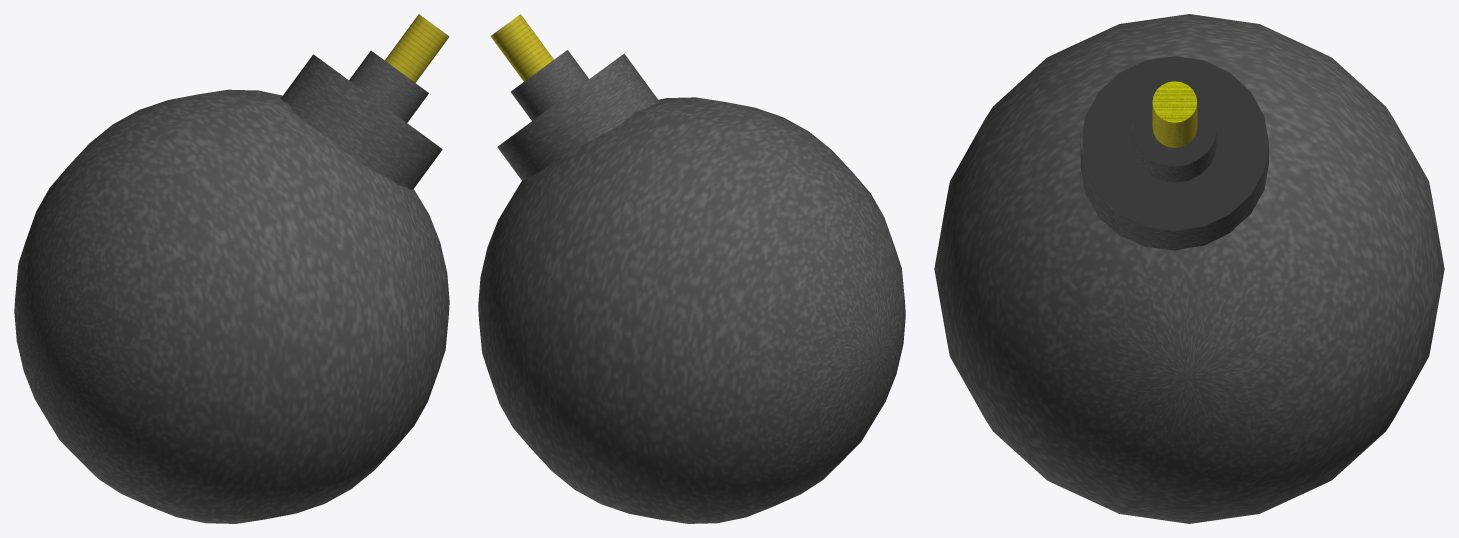
Rendered from bomba.fbx.
3 views of the same model, side by side, from view 1: azimuth 30°, elevation 25°; view 2: azimuth 150°, elevation 25°; view 3: azimuth 270°, elevation 25° (orthographic). The views are drawn at different scales.
Visible parts, largest first — view 1: pSphere1, pCylinder1, pCylinder2, pCylinder3; view 2: pSphere1, pCylinder1, pCylinder2, pCylinder3; view 3: pSphere1, pCylinder1, pCylinder2, pCylinder3.
Boxes of the visible parts, <box> form: pSphere1: <box>14,89,449,523</box>; pCylinder1: <box>281,54,442,189</box>; pCylinder2: <box>349,50,428,122</box>; pCylinder3: <box>385,14,449,82</box>; pSphere1: <box>478,97,905,523</box>; pCylinder1: <box>497,53,658,180</box>; pCylinder2: <box>511,50,588,120</box>; pCylinder3: <box>490,14,553,81</box>; pSphere1: <box>934,14,1444,523</box>; pCylinder1: <box>1080,56,1268,250</box>; pCylinder2: <box>1132,93,1217,182</box>; pCylinder3: <box>1152,81,1197,147</box>.
Size of the model in its own units: 0.1157 by 0.1247 by 0.1101.
1 material, 1 textured.
